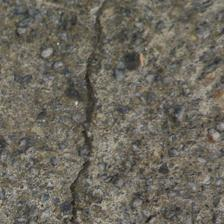Crack: (67, 3, 119, 222)
